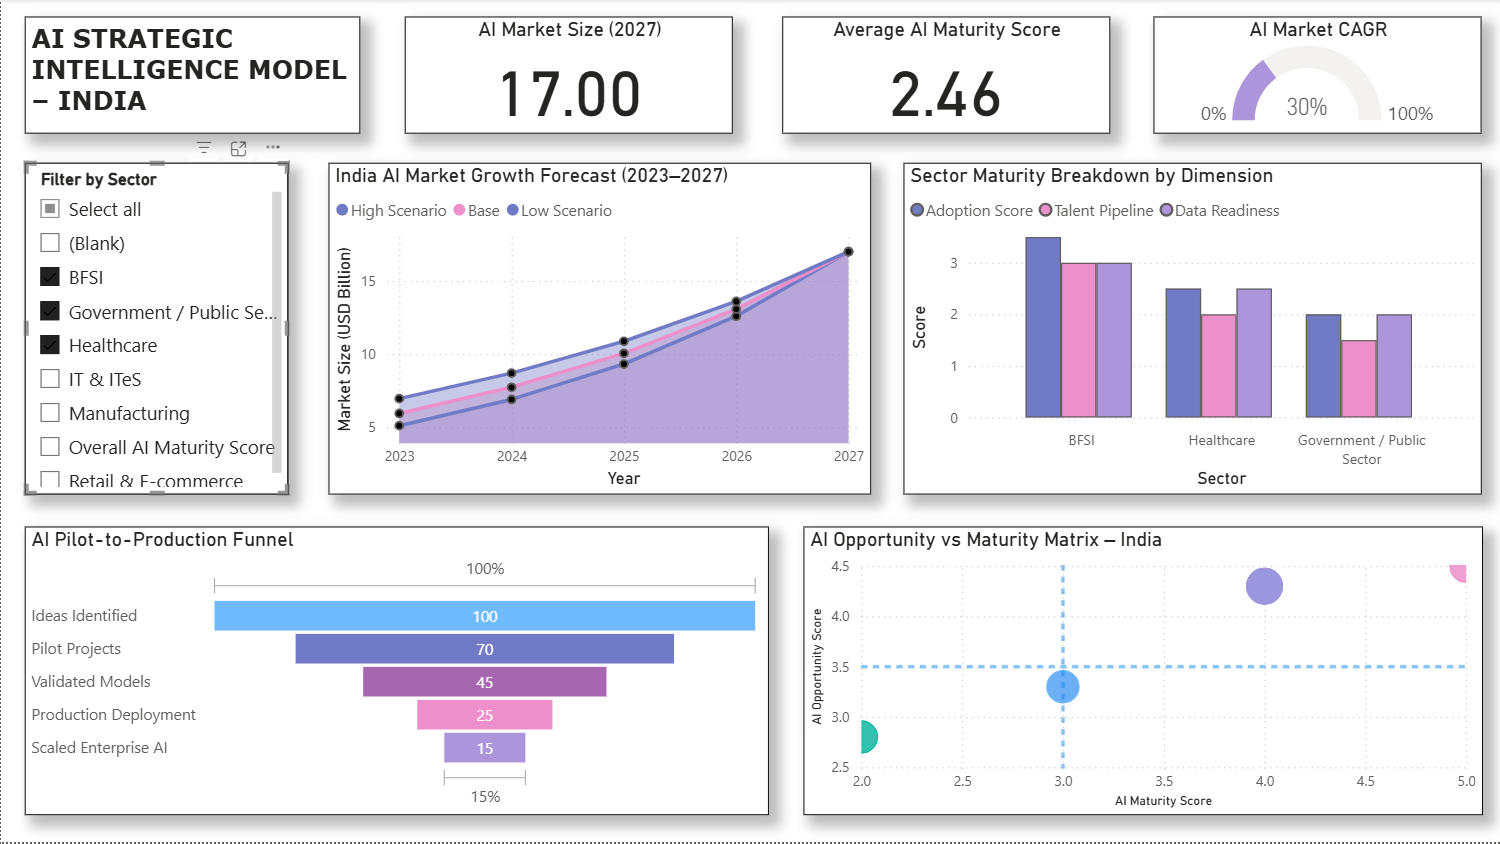

What the dashboard file says about the page in this screenshot:
{"tool":"powerbi","page":{"name":"Page 1","canvas":[1280,720],"ordinal":0},"visuals":[{"type":"card","title":"AI Market Size (2027)","fields":{"Values":["Sum(Market_Size_CAGR.Market_Size_Base)"]},"box":[345,15,280,100],"z":0},{"type":"card","title":"Average AI Maturity Score","fields":{"Values":["Avg(Maturity_Index.Weighted_Score)"]},"box":[666.7,15,280,100],"z":1000},{"type":"gauge","title":"AI Market CAGR","fields":{"Y":["Bottlenecks.AI Market CAGR"]},"box":[983.3,15,280,100],"z":2000},{"type":"lineChart","title":"India AI Market Growth Forecast (2023–2027)","fields":{"Category":["Market_Size_CAGR.Year"],"Y":["Sum(Market_Size_CAGR.Market_Size_High)","Sum(Market_Size_CAGR.Market_Size_Base)","Sum(Market_Size_CAGR.Market_Size_Low)"]},"box":[280,140,463.3,283.3],"z":3000},{"type":"funnel","title":"AI Pilot-to-Production Funnel","fields":{"Category":["Bottlenecks.Stage"],"Y":["Sum(Bottlenecks.% of Projects)"]},"box":[19.8,450,634.9,246.5],"z":4000},{"type":"clusteredColumnChart","title":"Sector Maturity Breakdown by Dimension","fields":{"Category":["Maturity_Index.Sector"],"Y":["Sum(Maturity_Index.Adoption_0_4)","Sum(Maturity_Index.Talent_0_4)","Sum(Maturity_Index.Data_0_4)"]},"box":[770,140,493.3,283.3],"z":5000},{"type":"scatterChart","title":"AI Opportunity vs Maturity Matrix – India","fields":{"Y":["Sector_Adoption.Opportunity_Score"],"X":["Sector_Adoption.AI_Adoption_0_5"],"Series":["Sector_Adoption.Sector"],"Size":["Sum(Sector_Adoption.Market_Potential_0_5)"]},"box":[685,450,580,246.7],"z":6000},{"type":"slicer","fields":{"Values":["Maturity_Index.Sector"]},"box":[20,140,225,283.3],"z":7000},{"type":"textbox","box":[20,15,286.7,100],"z":8000}]}

Visuals, with their boxes in screenshot pixels (x1, y1, x2, y2), scaled from the page's 1280x720 canvas onto the 1500x844 screenshot:
"AI Market Size (2027)" card: bbox(404, 18, 732, 135)
"Average AI Maturity Score" card: bbox(781, 18, 1109, 135)
"AI Market CAGR" gauge: bbox(1152, 18, 1480, 135)
"India AI Market Growth Forecast (2023–2027)" lineChart: bbox(328, 164, 871, 496)
"AI Pilot-to-Production Funnel" funnel: bbox(23, 528, 767, 816)
"Sector Maturity Breakdown by Dimension" clusteredColumnChart: bbox(902, 164, 1480, 496)
"AI Opportunity vs Maturity Matrix – India" scatterChart: bbox(803, 528, 1482, 817)
slicer - Maturity_Index.Sector: bbox(23, 164, 287, 496)
textbox: bbox(23, 18, 359, 135)
